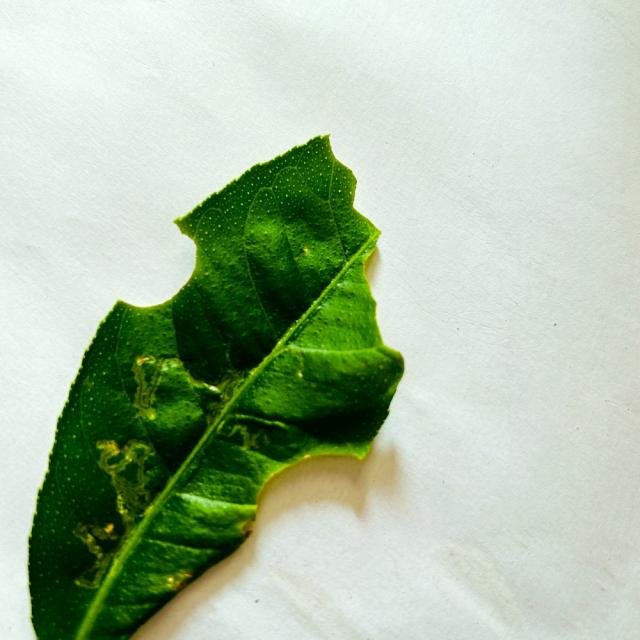Deficiency Leaf: (331, 132, 486, 339), (253, 456, 369, 530), (106, 222, 194, 306)
Lemon: (29, 136, 403, 639)
